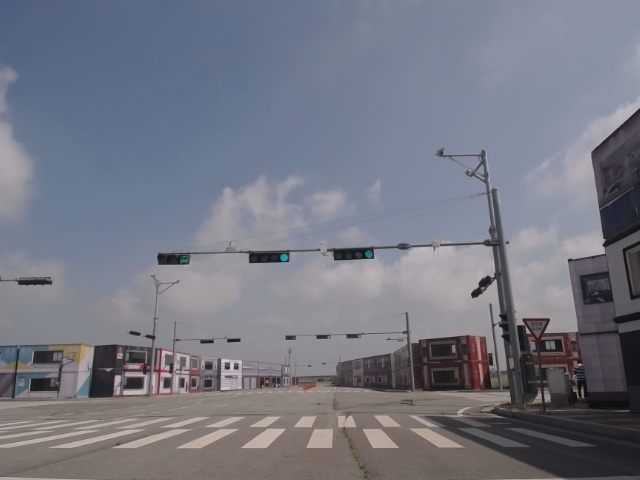straight_green_4: (249, 251, 289, 263), (333, 249, 374, 259)
